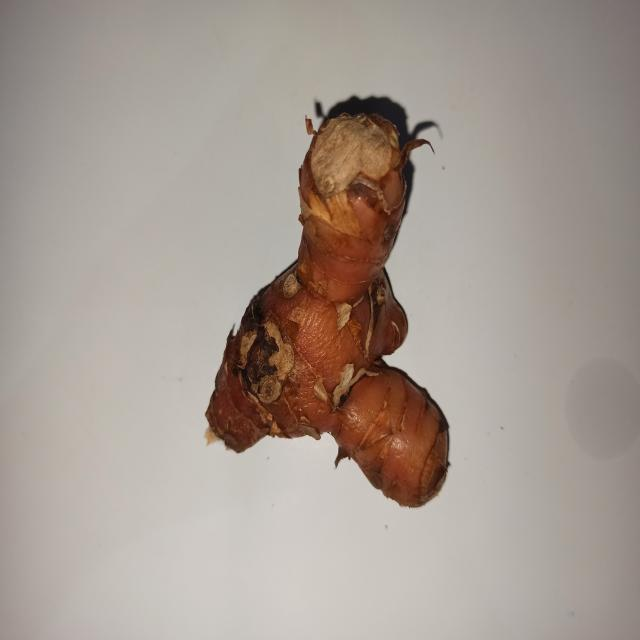ginger: (223, 100, 459, 475)
